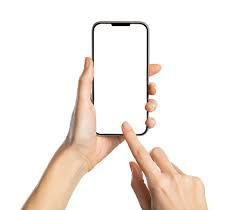Hand: (67, 62, 169, 162), (113, 123, 211, 207)
Smartphone: (92, 22, 153, 137)
